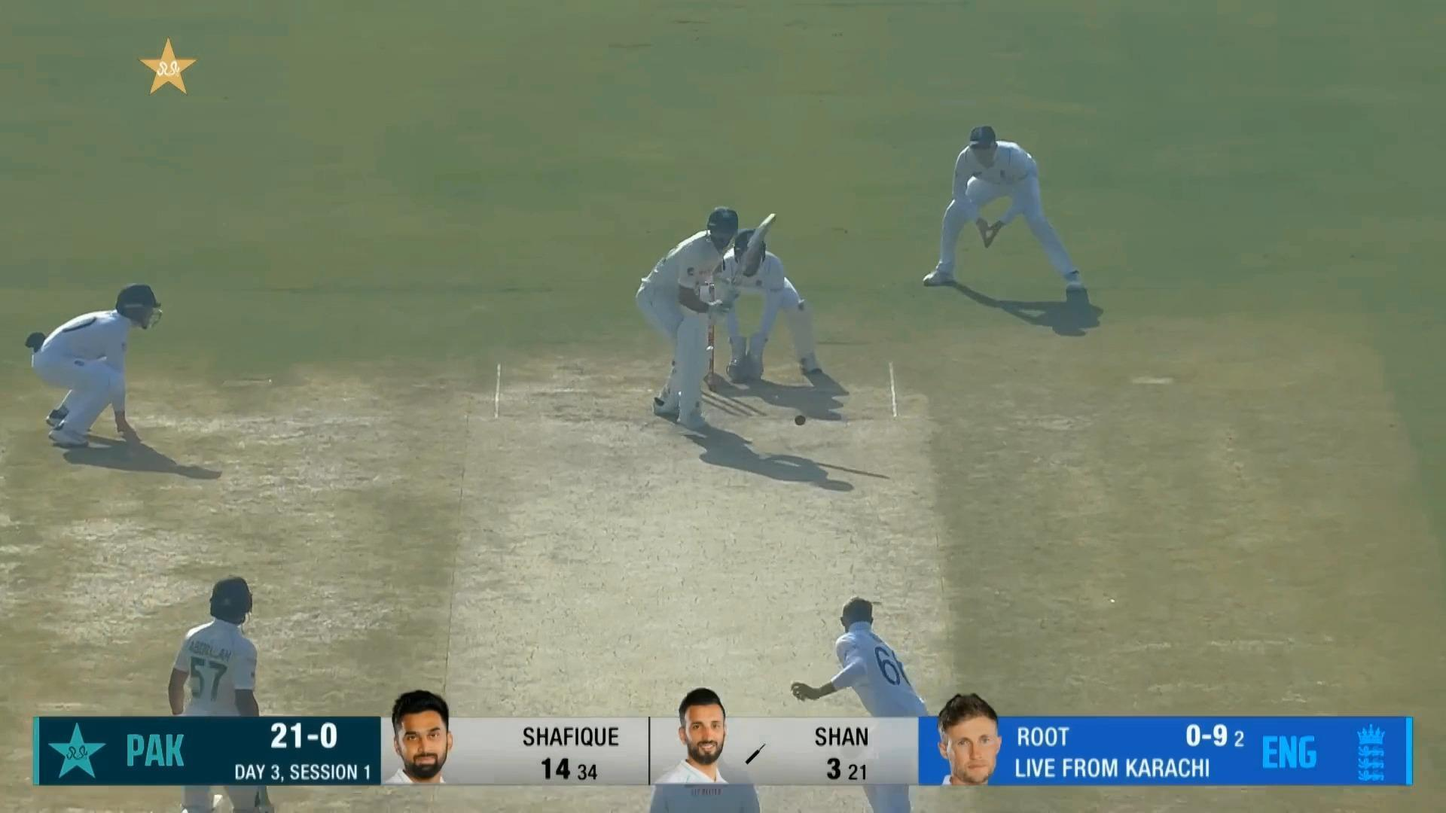BM 1: (635, 206, 779, 432)
BO: (789, 595, 945, 813)
